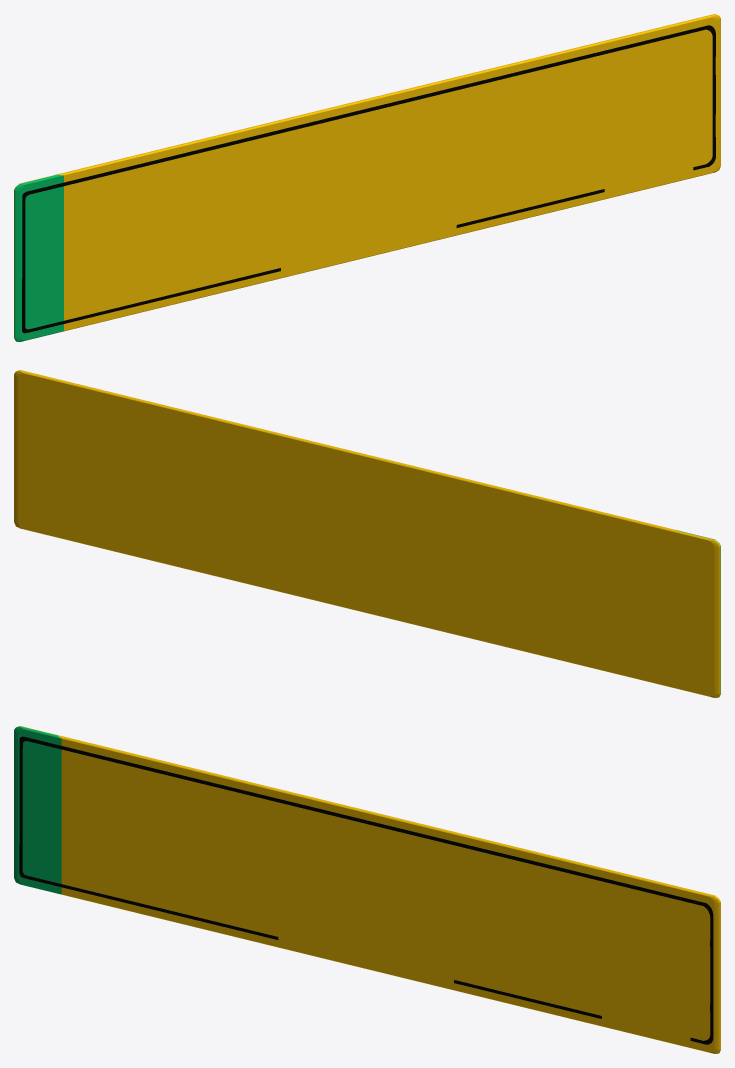
Rendered from electric_bordered_plate.gltf.
3 renders of one model, top to bottom at view 1: azimuth 30°, elevation 25°; view 2: azimuth 150°, elevation 25°; view 3: azimuth 330°, elevation 25°, orthographic.
Parts seen in each view (by area): view 1: Plane.002, Circle.001; view 2: Plane.002; view 3: Plane.002, Circle.001.
Boxes of the visible parts, <box> form: Plane.002: <box>14,14,720,341</box>; Circle.001: <box>22,25,715,333</box>; Plane.002: <box>14,370,720,697</box>; Plane.002: <box>14,726,720,1053</box>; Circle.001: <box>19,736,713,1044</box>.
Size of the model in its own units: 10.45 by 2.23 by 0.0629.
